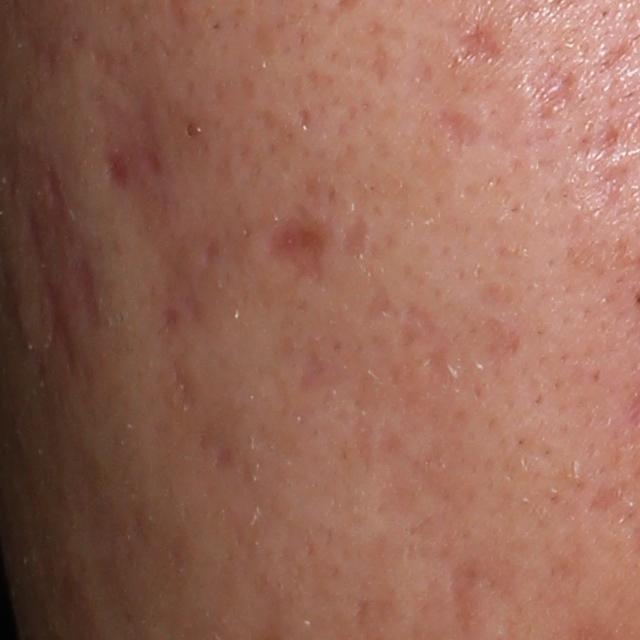atrophic_scar: (364, 281, 463, 389), (257, 212, 324, 294), (37, 276, 78, 377), (523, 56, 576, 123), (447, 553, 486, 639), (294, 343, 351, 395), (71, 253, 104, 334), (448, 20, 503, 68), (336, 208, 376, 264), (435, 111, 487, 153), (583, 475, 627, 521), (171, 367, 200, 418), (104, 149, 133, 191), (602, 39, 635, 74)
comedo: (181, 119, 204, 146)
